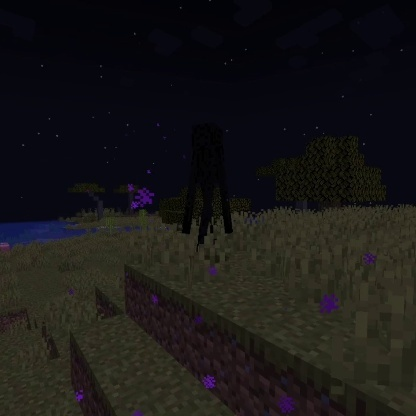enderman: (178, 121, 236, 255)
